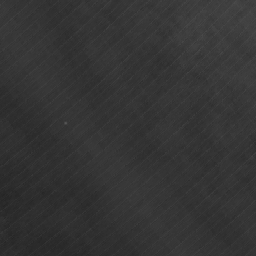Target: (61, 119, 68, 125)
